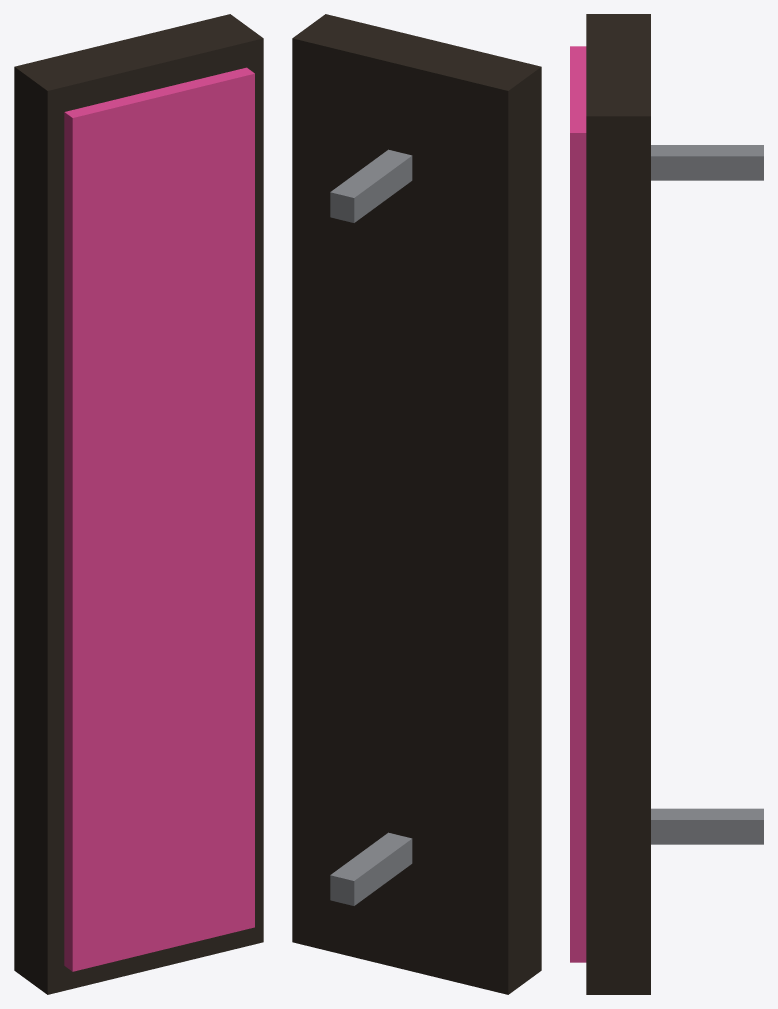
File: SM_H_Signboard_Neon_A.obj
The picture shows the model from 3 angles, left to right: view 1: azimuth 30°, elevation 25°; view 2: azimuth 150°, elevation 25°; view 3: azimuth 270°, elevation 25°; orthographic projection. The views are drawn at different scales.
Visible parts, largest first — view 1: face, carcass; view 2: carcass, mount_t, mount_b; view 3: carcass, face, mount_b, mount_t.
Boxes of the visible parts, x1,y1,x2,y2 form: face: (64,67,254,971); carcass: (14,14,263,994); carcass: (292,14,541,994); mount_t: (330,149,412,222); mount_b: (330,832,412,905); carcass: (586,14,650,994); face: (570,46,586,962); mount_b: (651,808,763,844); mount_t: (651,145,763,180).
Bounding box in the file's own units: 0.45 × 1.8 × 0.36.
